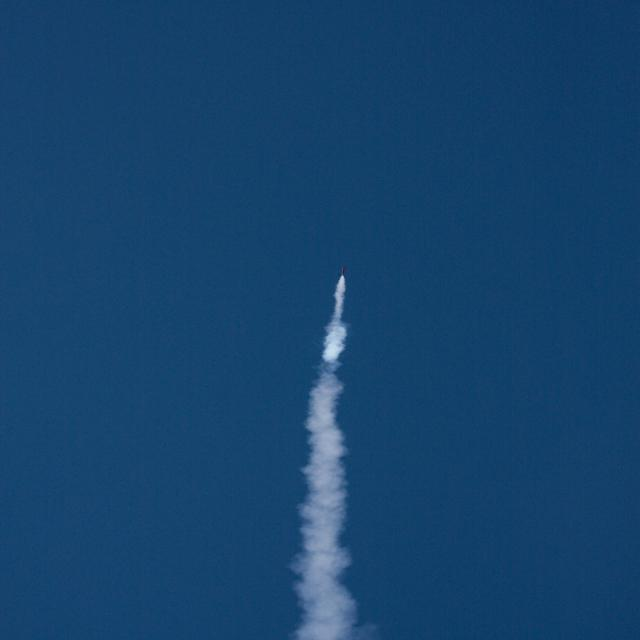Rocket: (337, 266, 348, 279)
